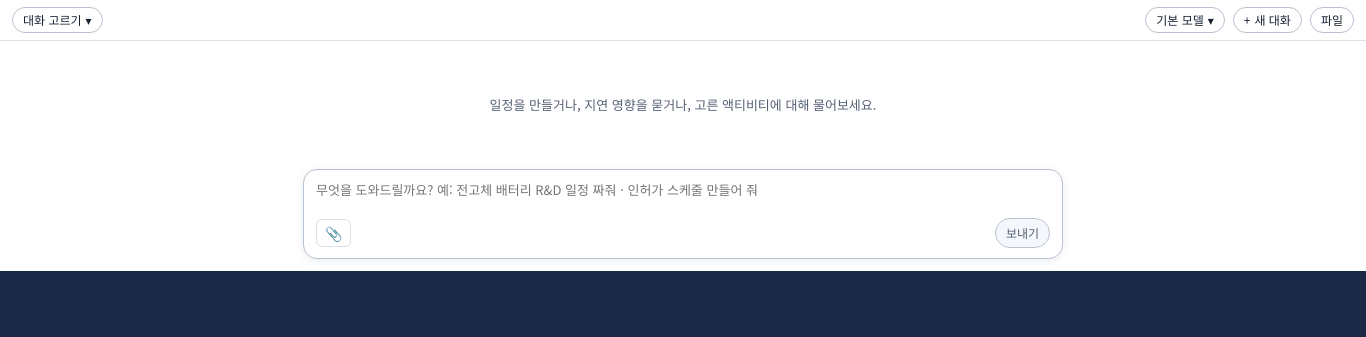
Test: 지시서 시험 (실제 사건 모양) › generation card shows rounds
The width and height of the screenshot is (1366, 337).
Type "q" into the text box named "에이전트에게 요청".
click(683, 199); type("q")  # box [316, 180, 1050, 218]
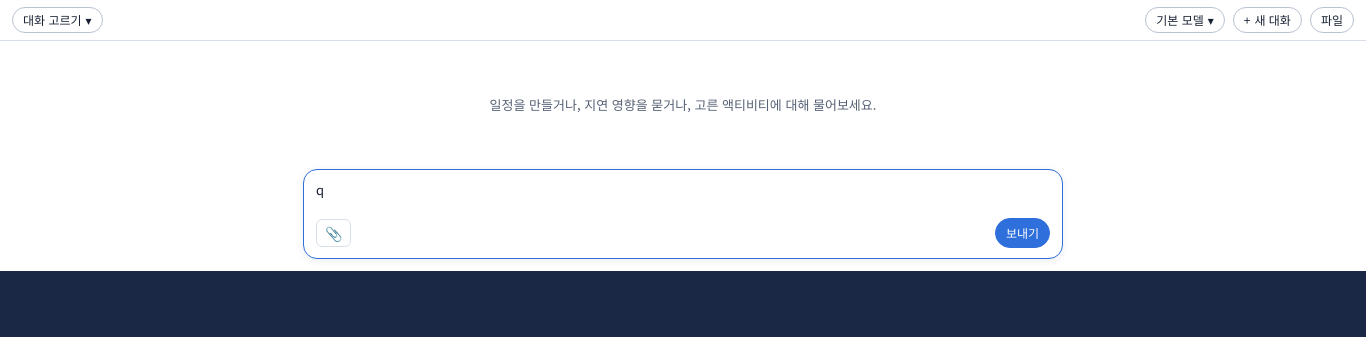
Click the button "보내기".
click(1022, 233)  # box [995, 218, 1050, 248]
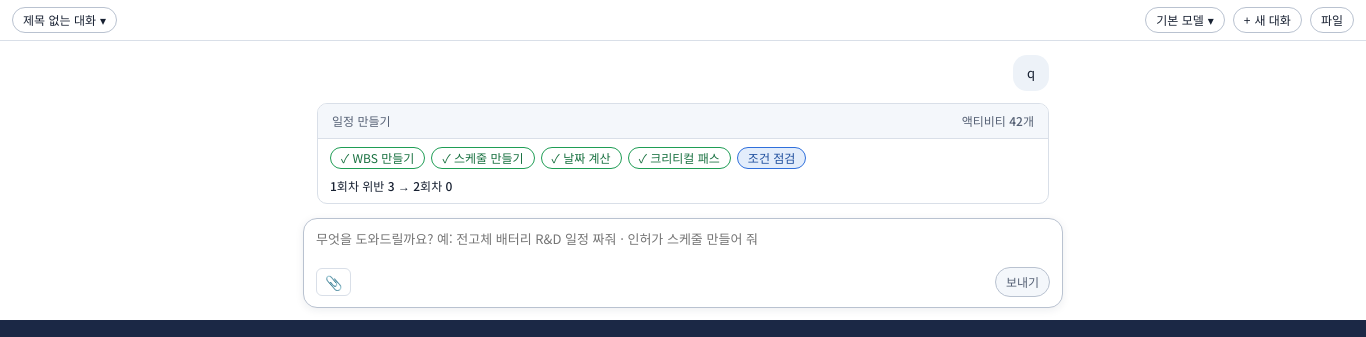
expect the text "1회차 위반 3 → 2회차 0" is shown: met, box [330, 177, 452, 194]
